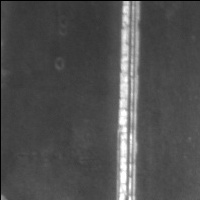scratches: (114, 1, 147, 200)
